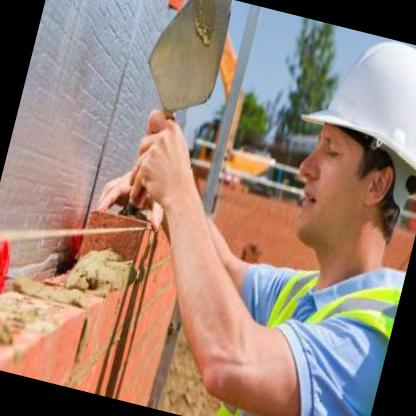helmet: (259, 21, 416, 299)
